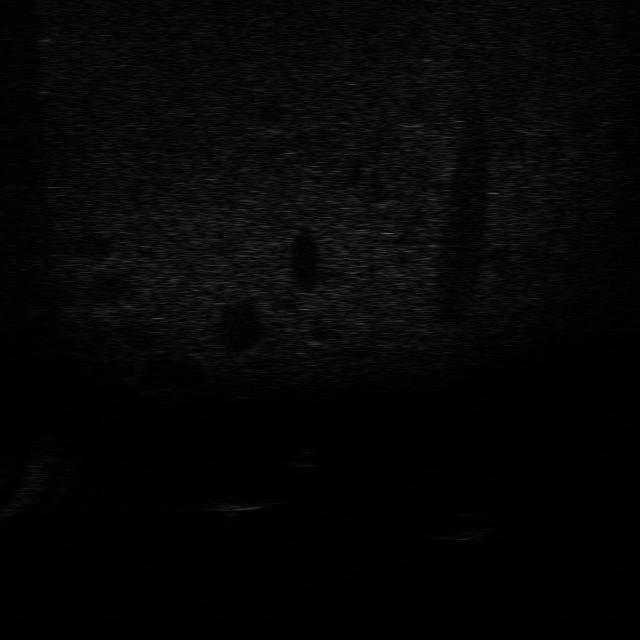ball: (286, 444, 325, 471)
square cage: (205, 491, 274, 518)
tyre: (438, 508, 490, 543)
